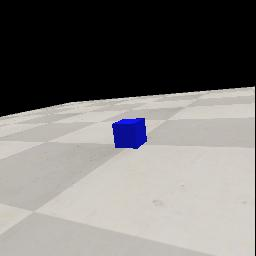box: (112, 118, 147, 149)
